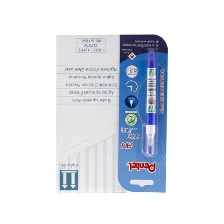book: (53, 32, 129, 196), (117, 32, 168, 194)
correction_fluid: (140, 46, 160, 159)
